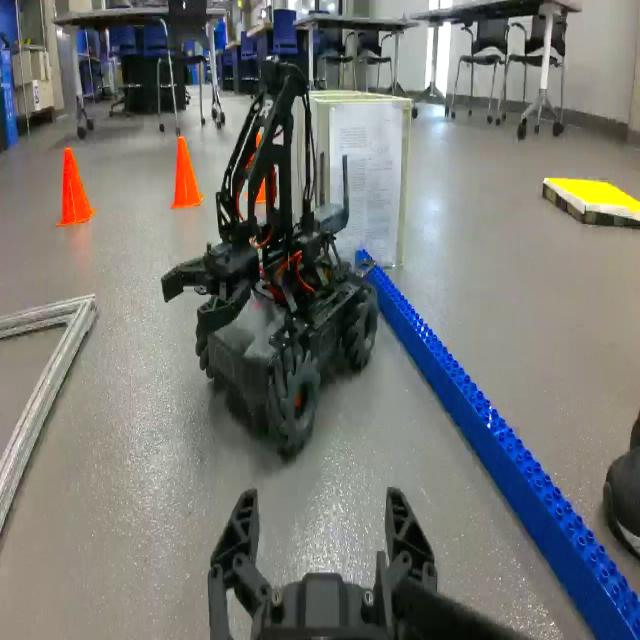cone: (56, 140, 94, 232), (166, 130, 206, 212)
metal barrier: (0, 282, 99, 544)
river: (355, 238, 639, 640)
robot: (162, 54, 382, 468)
storage cube: (323, 91, 408, 259)
yellow goal: (545, 180, 640, 224)
